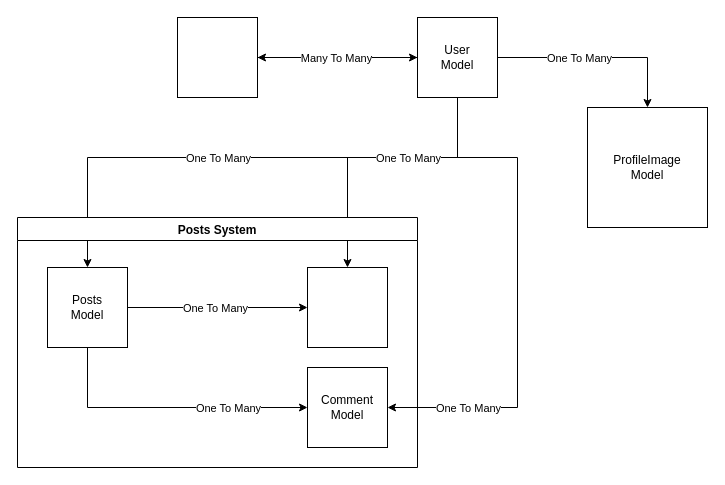
The diagram is 725 pixels wide and 485 high, and some of its shapes have lost their labels. Here are the shapes that lost their labels. From the top down, the centre of each, then its label:
At [217,57]: "Role Model".
At [347,307]: "Likes Model".
